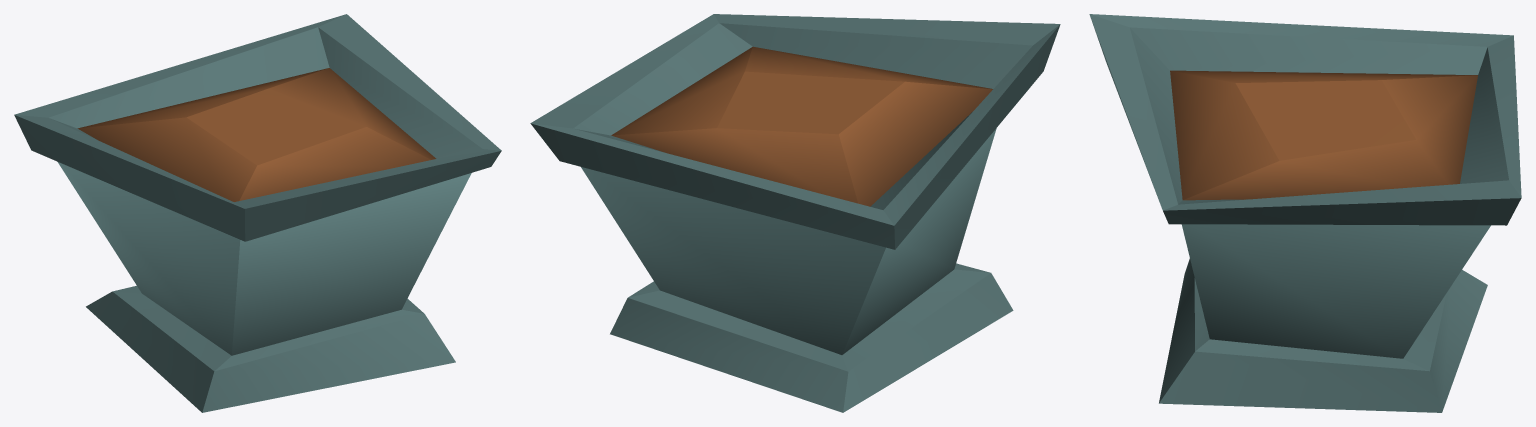
The model's file is c_deco_vase_square_ac.fbx.
3 renders of one model, left to right at view 1: azimuth 30°, elevation 25°; view 2: azimuth 150°, elevation 25°; view 3: azimuth 270°, elevation 25°, orthographic. The views are drawn at different scales.
Visible parts, largest first — view 1: c_deco_vase_square_ac; view 2: c_deco_vase_square_ac; view 3: c_deco_vase_square_ac.
Part boxes in pixels (bbox=[...]): c_deco_vase_square_ac: bbox=[14, 14, 501, 412]; c_deco_vase_square_ac: bbox=[530, 14, 1060, 412]; c_deco_vase_square_ac: bbox=[1089, 14, 1521, 412].
Bounding box in the file's own units: 0.5533 × 0.3709 × 0.56.
